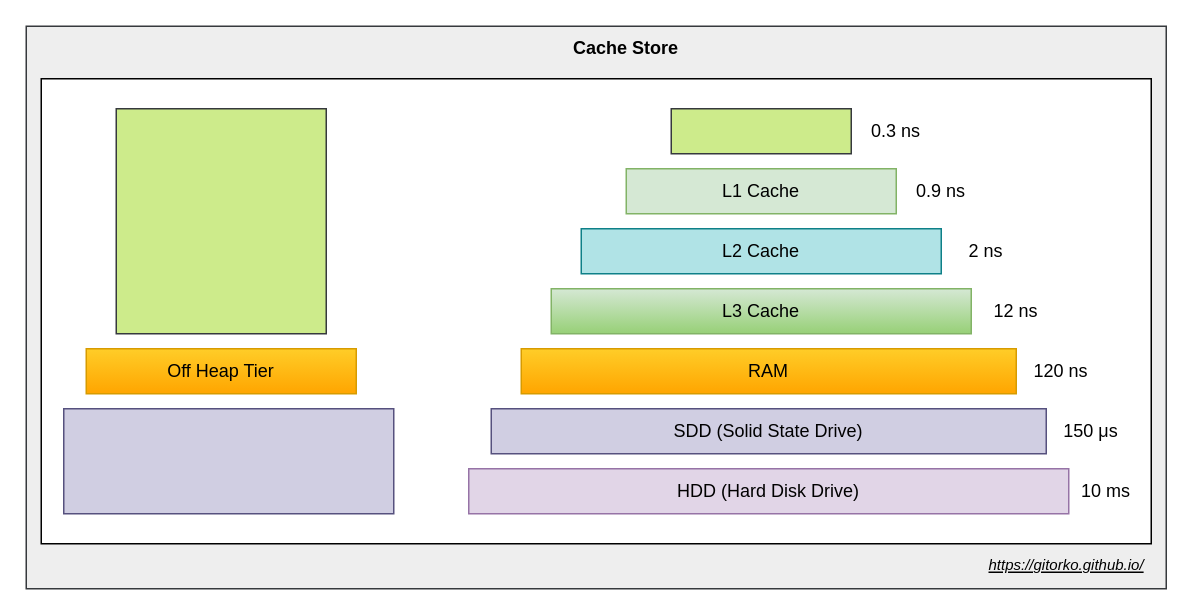
Image size: 1193x615. Some labels were removed from this diagram. Here are the shapes that lost their labels. From the top down, the centre of each, then its label:
point (760, 130): Register
point (220, 220): Heap Tier
point (228, 460): Disk Tier
